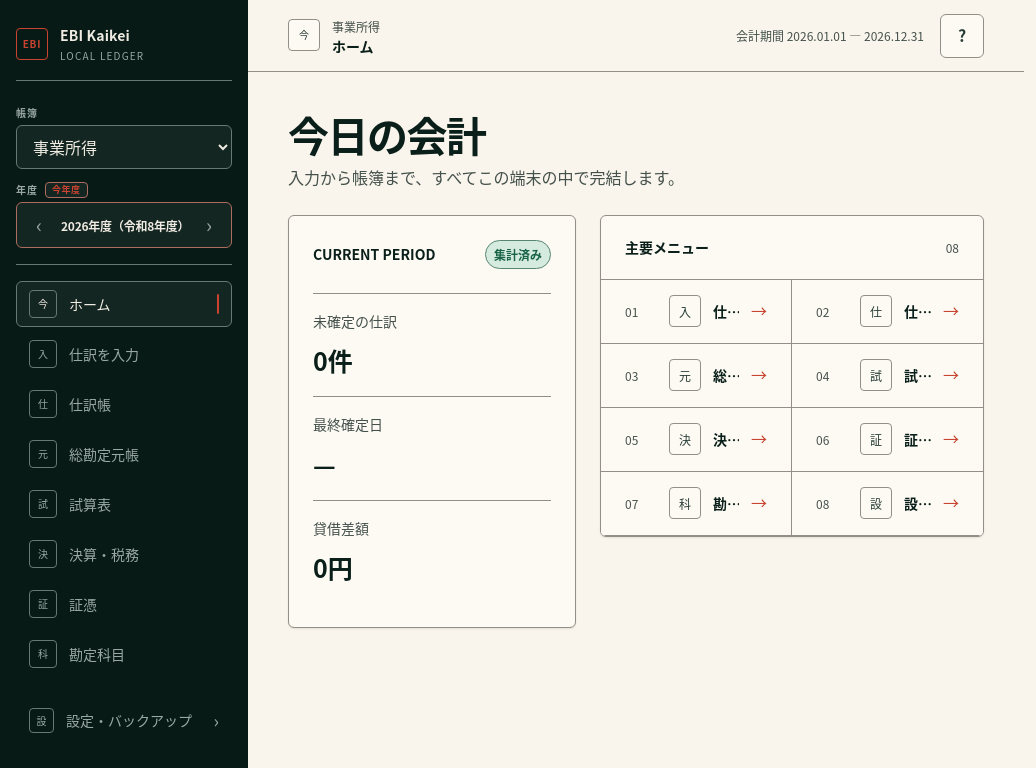
Test: App › サイドバーから勘定科目一覧へ移動できる
The image size is (1036, 768).
Step 1. Click the button "科 勘定科目" → (124, 654), box [16,631,232,677]
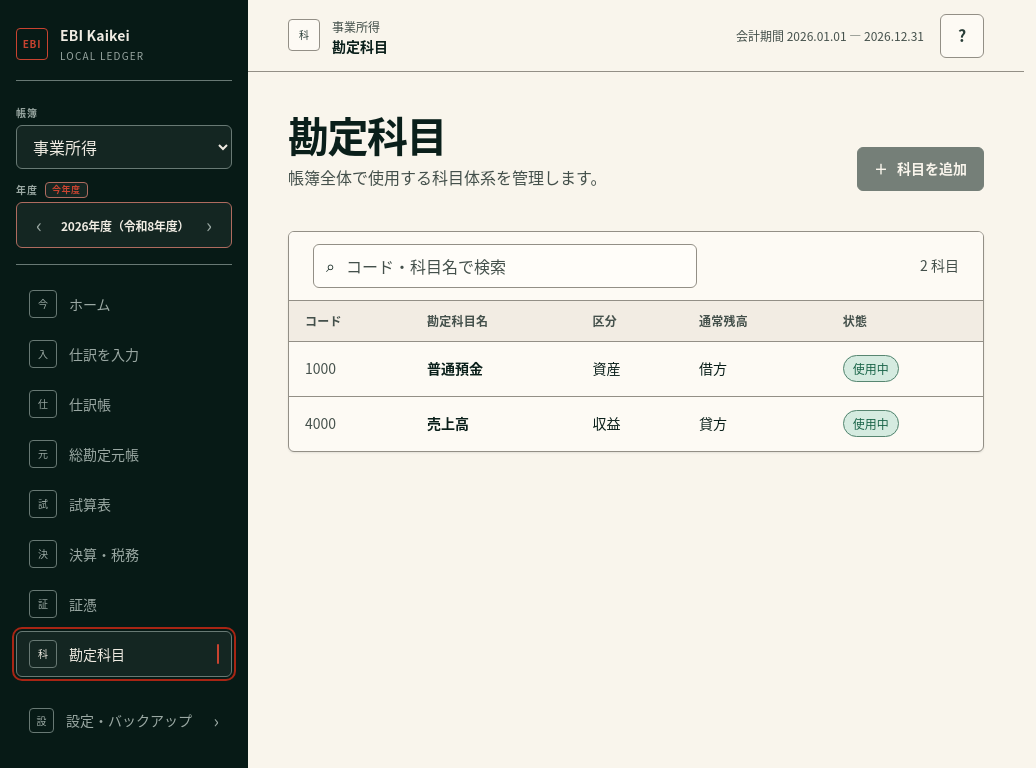
Expected: the heading "勘定科目" is shown, [288,104,446,164]
Expected: the text "普通預金" is shown, [411,342,576,397]
Expected: the text "売上高" is shown, [411,397,576,451]
